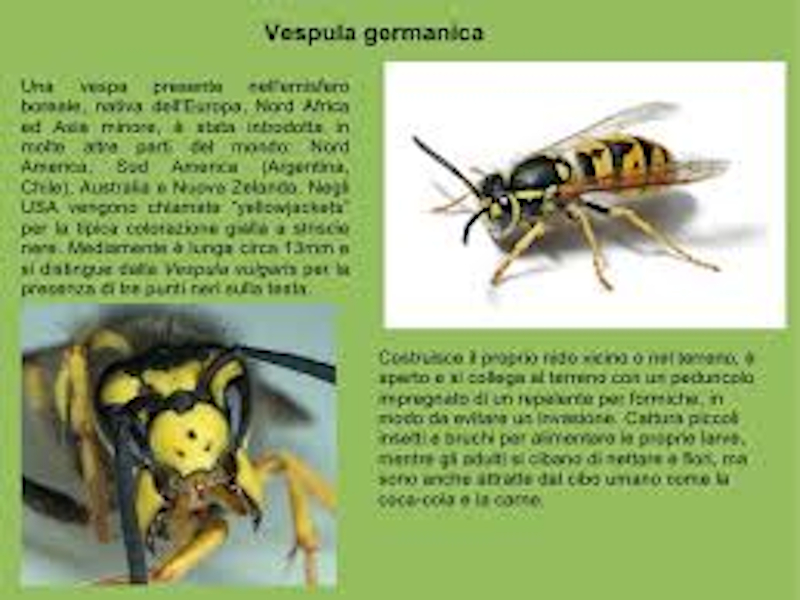chax: (404, 80, 751, 310), (30, 309, 328, 558)
